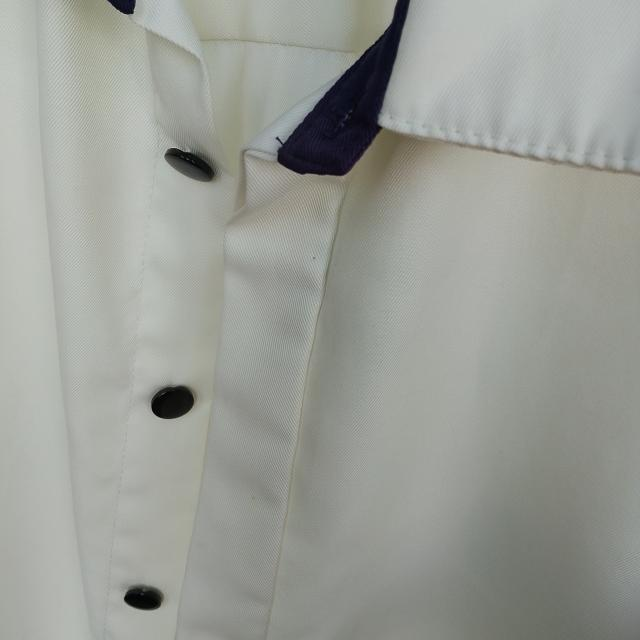education_male_uniform: (3, 5, 640, 625)
